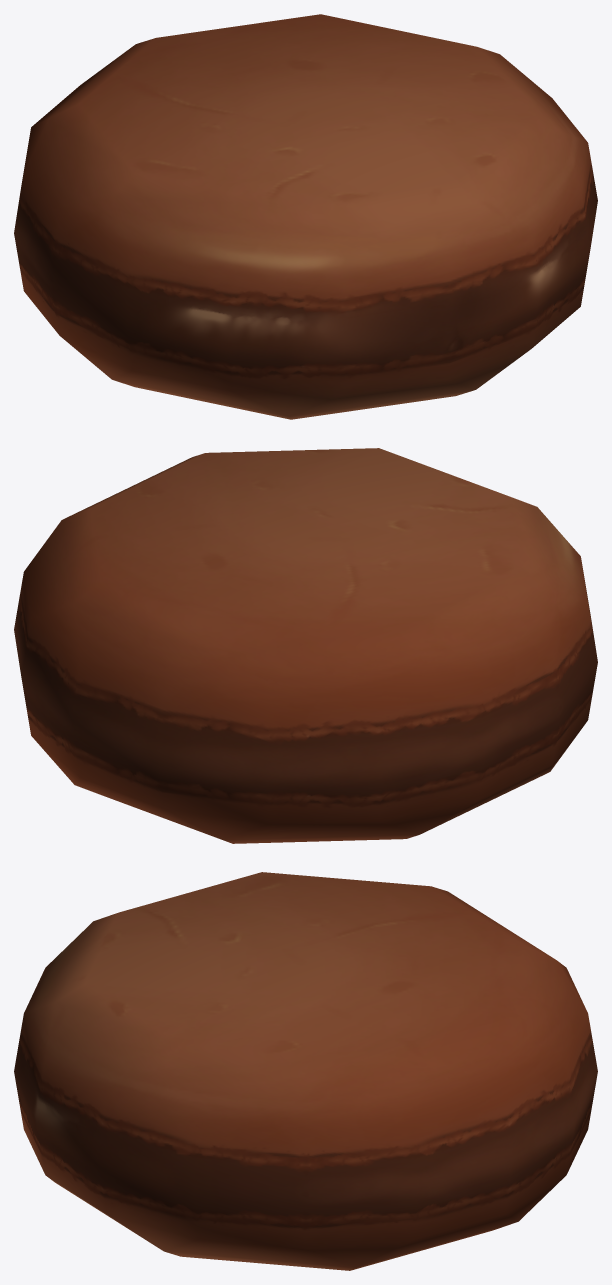
The model's file is macaron.fbx.
The picture shows the model from 3 angles, top to bottom: view 1: azimuth 30°, elevation 25°; view 2: azimuth 150°, elevation 25°; view 3: azimuth 270°, elevation 25°; orthographic projection.
Visible parts, largest first — view 1: macaron; view 2: macaron; view 3: macaron.
Part boxes in pixels (<box>): macaron: <box>14,14,597,419</box>; macaron: <box>14,448,597,843</box>; macaron: <box>14,872,597,1270</box>.
Bounding box in the file's own units: 14.6 × 5.85 × 14.6.
